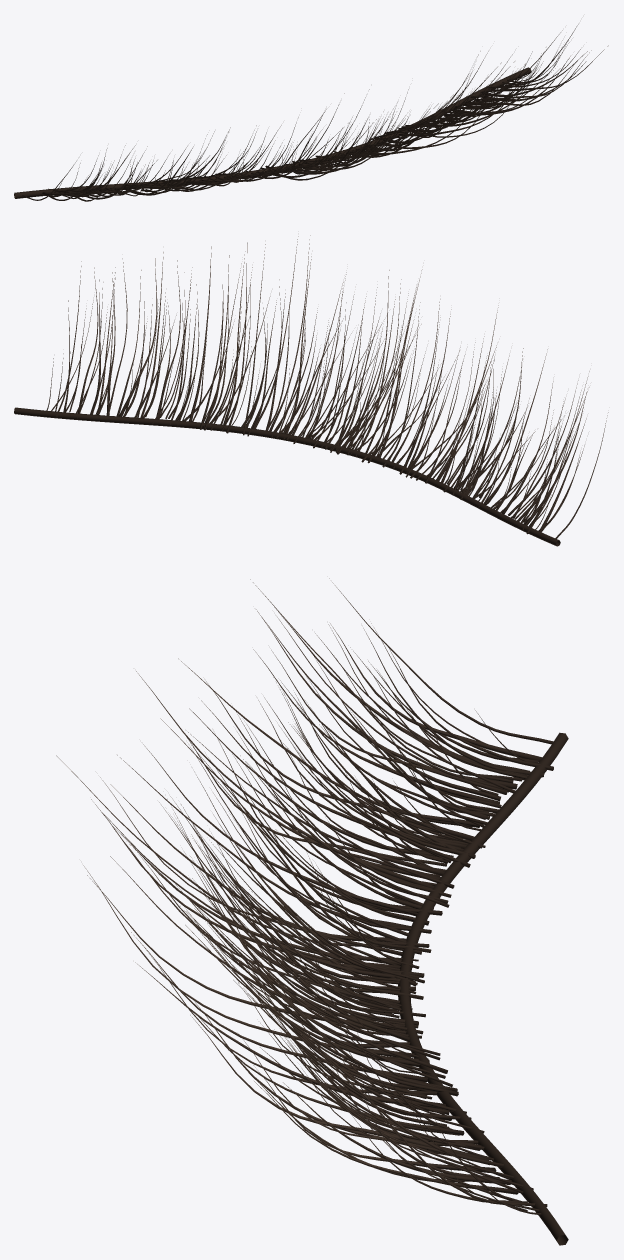
Rendered from cateyeright.glb.
3 renders of one model, top to bottom at view 1: azimuth 30°, elevation 25°; view 2: azimuth 150°, elevation 25°; view 3: azimuth 270°, elevation 25°, orthographic. The views are drawn at different scales.
Parts seen in each view (by area): view 1: natural_right; view 2: natural_right; view 3: natural_right.
Boxes of the visible parts, x1=… form: natural_right: x1=14, y1=24, x2=608, y2=201; natural_right: x1=14, y1=235, x2=608, y2=546; natural_right: x1=56, y1=578, x2=568, y2=1245.
Size of the model in its own units: 3.02 by 0.7289 by 1.3.
